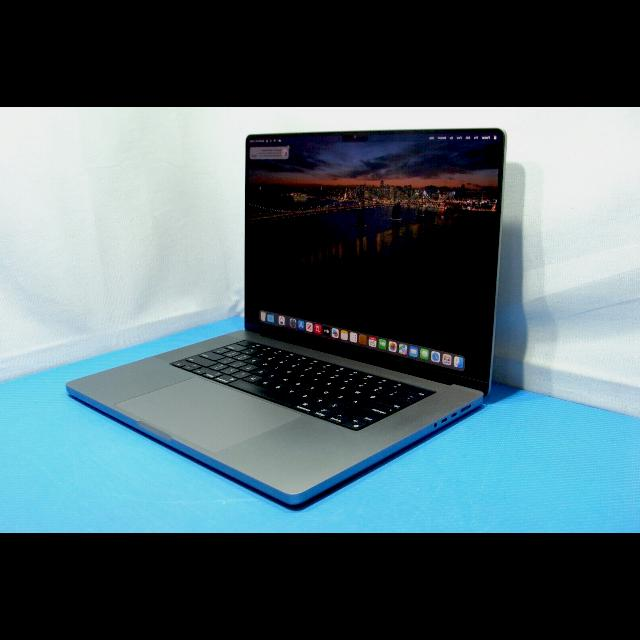laptop: (60, 110, 518, 526)
